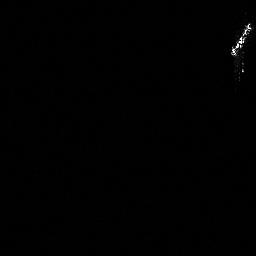ship: (226, 21, 256, 58)
